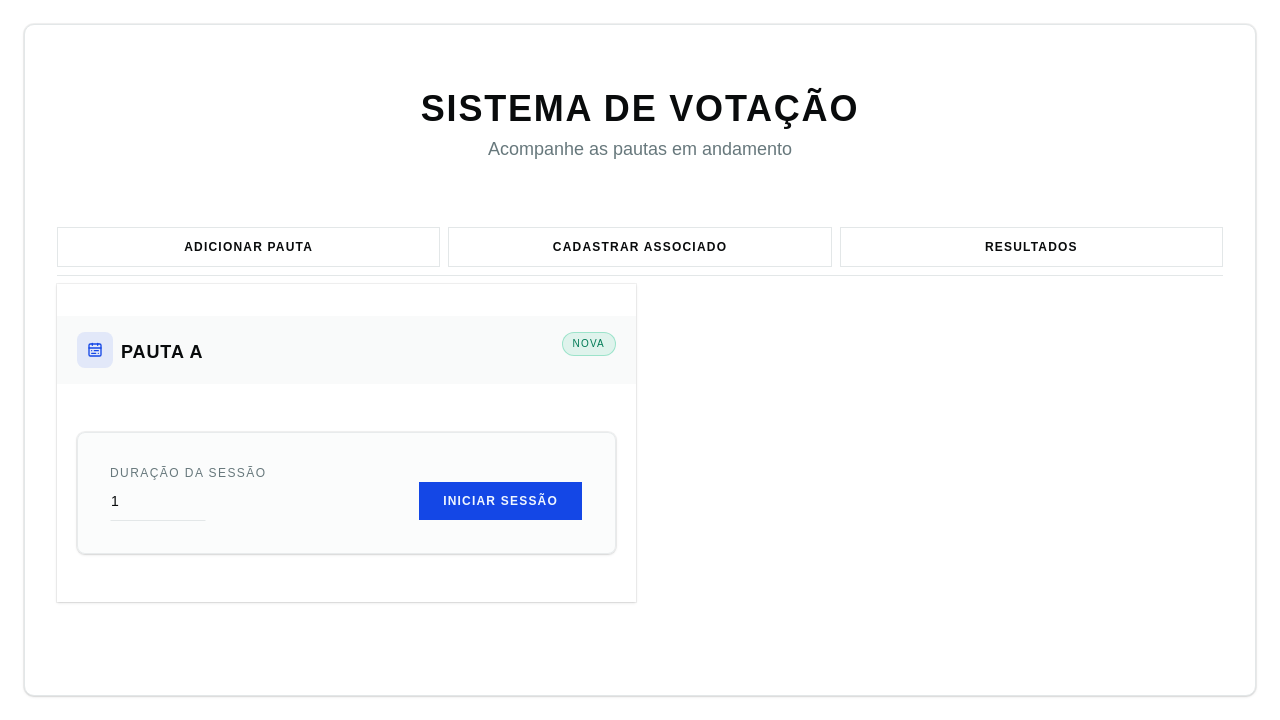
Test case: HomePage test component › Should open add Agenda dialog
Click the button "Adicionar Pauta" at (249, 247), box left=57, top=227, right=440, bottom=267
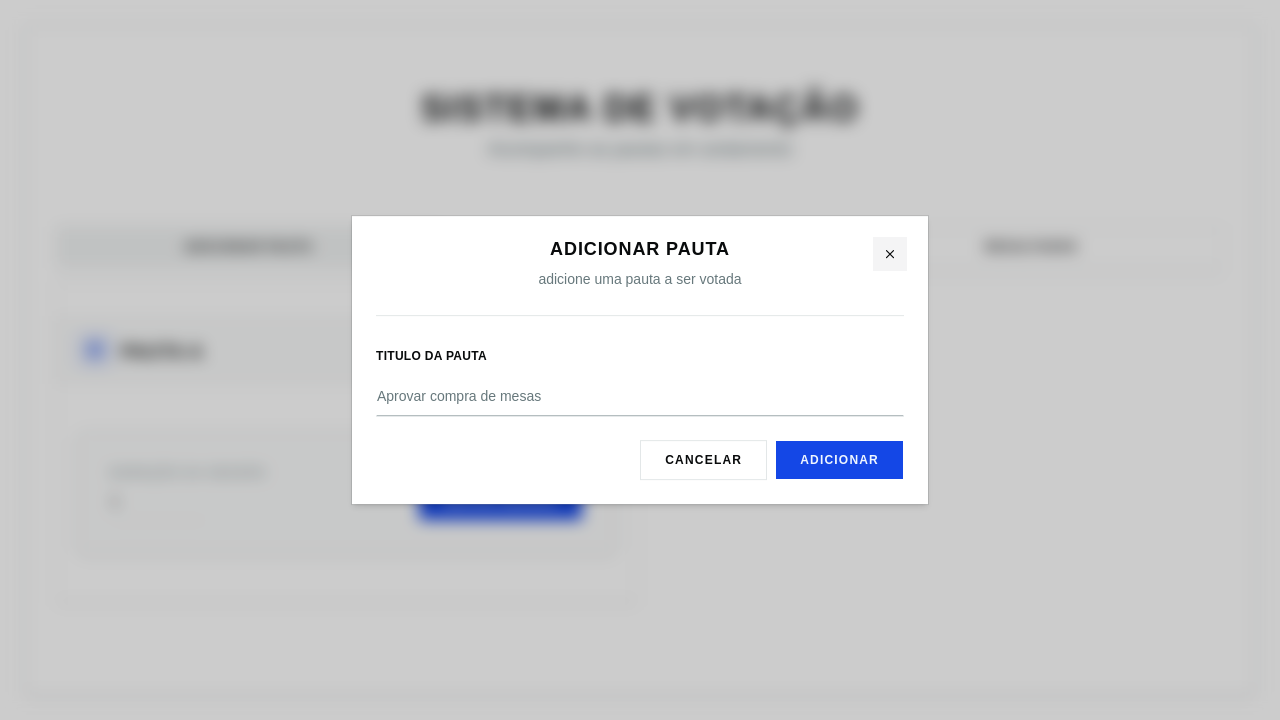
Expected: the text "Titulo da Pauta" is shown, left=376, top=349, right=487, bottom=363
Expected: the button "Adicionar" is shown, left=775, top=440, right=904, bottom=480
